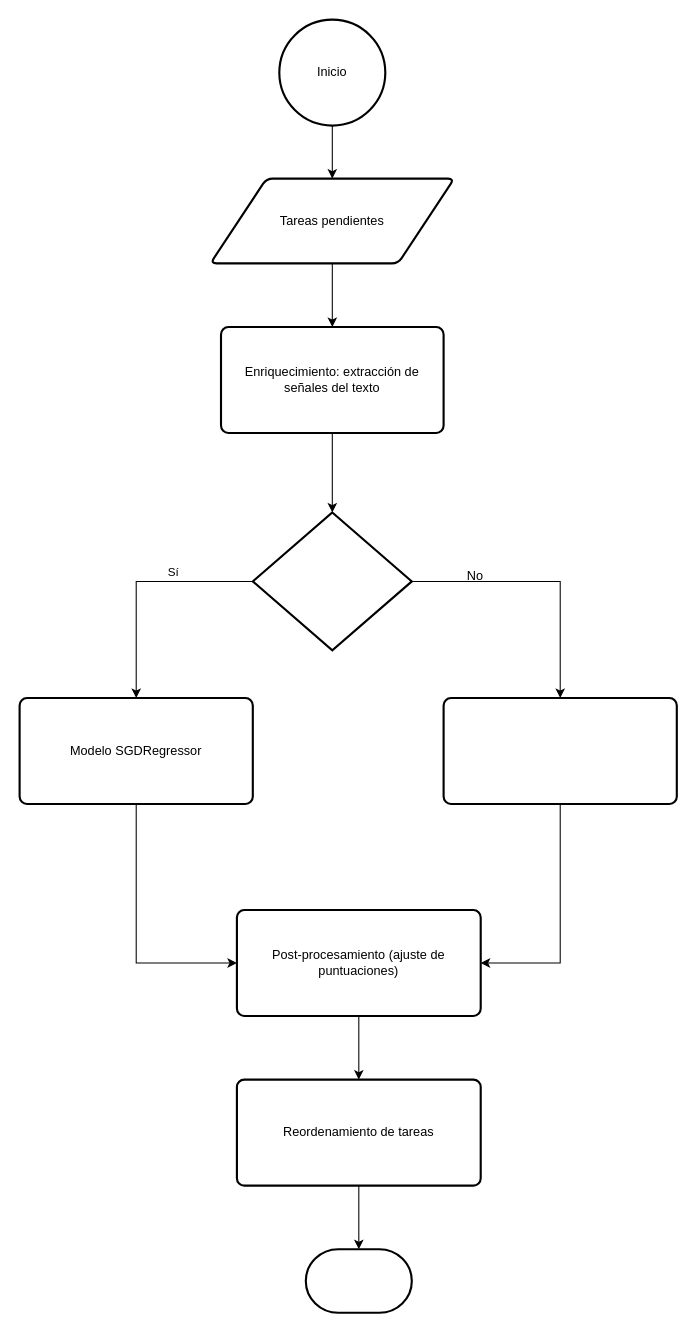
Image size: 695x1331. Some labels were removed from this diagram. The centre of each missing label's shape, as x and y in pixels:
Fallback basado en reglas: the point at 559,750
Fin: the point at 358,1280
Modelo disponible: the point at 331,581
